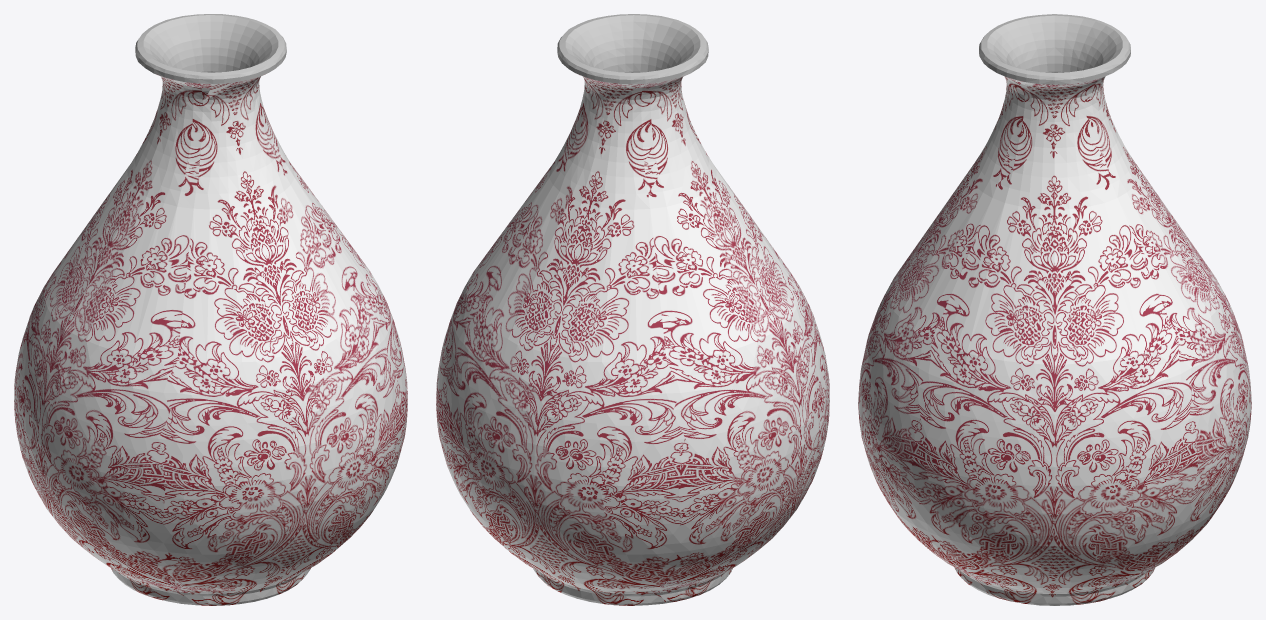
File: Red_Model.fbx
3 views of the same model, side by side, from view 1: azimuth 30°, elevation 25°; view 2: azimuth 150°, elevation 25°; view 3: azimuth 270°, elevation 25° (orthographic).
Parts seen in each view (by area): view 1: mesh_rep_0_ori_repair_quad.obj, 对象001; view 2: mesh_rep_0_ori_repair_quad.obj, 对象001; view 3: mesh_rep_0_ori_repair_quad.obj, 对象001.
Part boxes in pixels (x1,y1,x2,y2): mesh_rep_0_ori_repair_quad.obj: (14, 74, 407, 605); 对象001: (135, 14, 286, 83); mesh_rep_0_ori_repair_quad.obj: (436, 63, 829, 605); 对象001: (557, 14, 708, 84); mesh_rep_0_ori_repair_quad.obj: (858, 71, 1251, 605); 对象001: (979, 14, 1130, 84).
Size of the model in its own units: 130 by 190 by 130.
